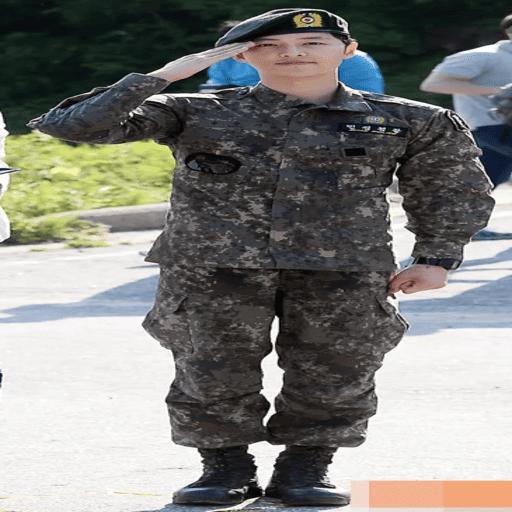korea army: (25, 7, 495, 507)
